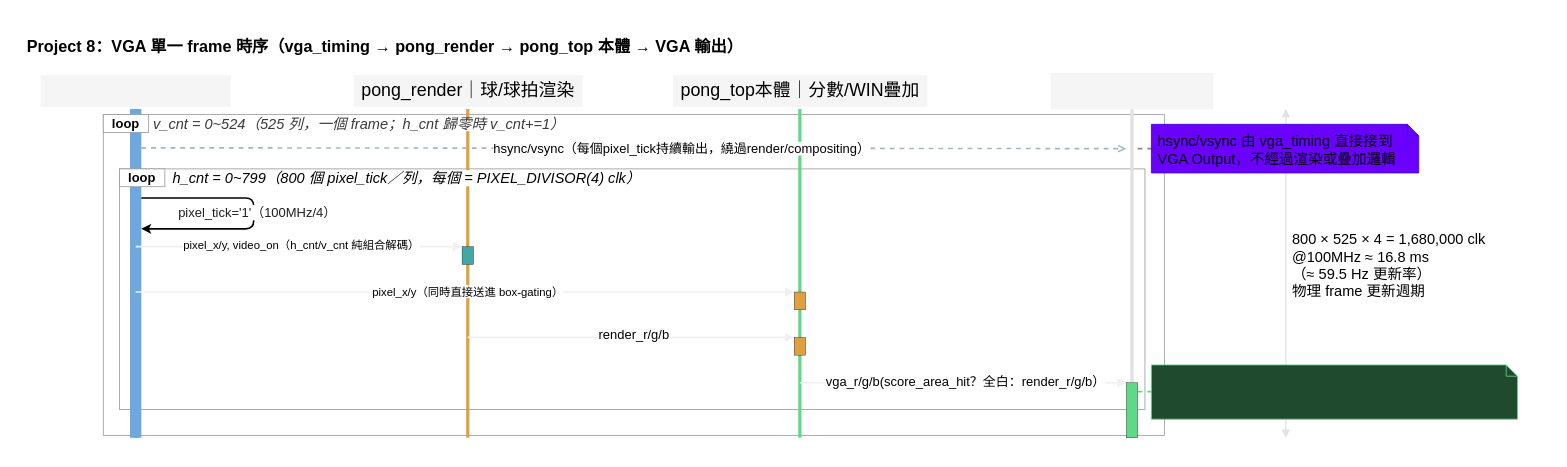
Image size: 1567x467. Some labels were removed from this diagram. Each missing label, with the box of its shape:
render_r/g/b、score_area_hit、最終 vga_r/g/b 全部組合邏輯，同一 pixel_tick 內完成， 0 clk 額外延遲: (1151, 364, 1518, 419)
VGA Output: (1050, 72, 1213, 109)
vga_timing｜時序產生: (40, 75, 230, 107)
